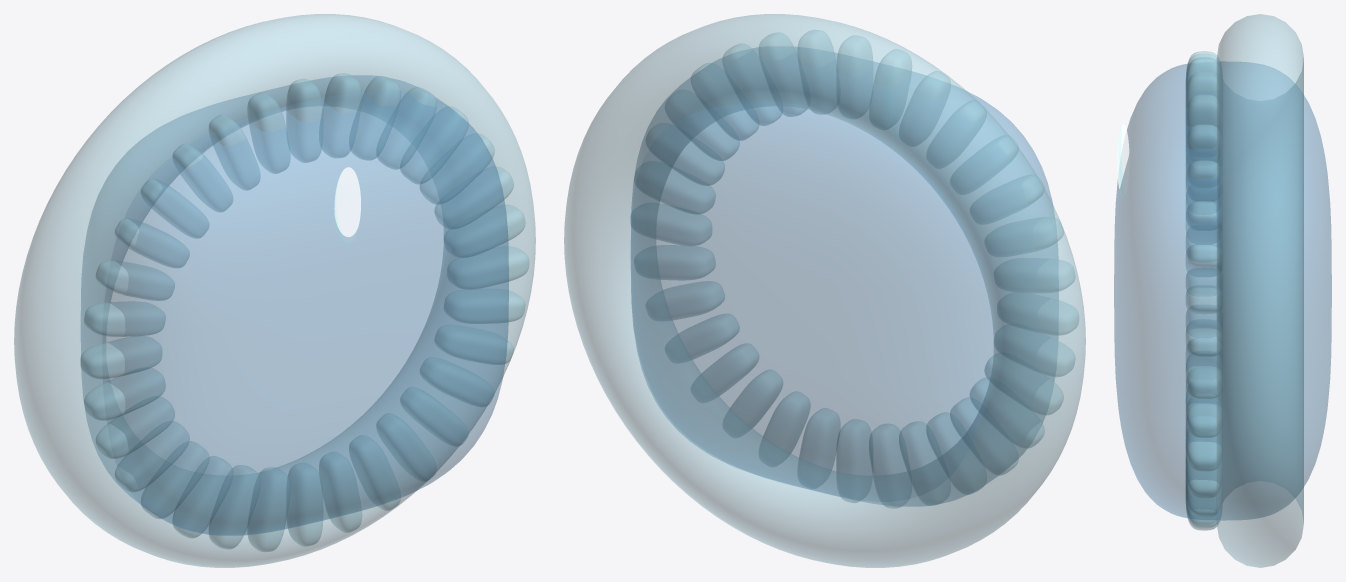
3 views of the same model, side by side, from view 1: azimuth 30°, elevation 25°; view 2: azimuth 150°, elevation 25°; view 3: azimuth 270°, elevation 25° (orthographic). The views are drawn at different scales.
Parts seen in each view (by area): view 1: dial-cap, dial-collar, grip-rib-22, grip-rib-1, grip-rib-2, grip-rib-23, grip-rib-21, grip-rib-3, grip-rib-0, grip-rib-20, grip-rib-4, grip-rib-5 (+23 smaller); view 2: dial-cap, dial-collar, grip-rib-9, grip-rib-15, grip-rib-16, grip-rib-8, grip-rib-14, grip-rib-10, grip-rib-13, grip-rib-11, grip-rib-7, grip-rib-12 (+19 smaller); view 3: dial-cap, dial-collar, grip-rib-8, grip-rib-9, grip-rib-3, grip-rib-4, grip-rib-7, grip-rib-2, grip-rib-0, grip-rib-10, grip-rib-1, grip-rib-31 (+9 smaller).
Boxes of the visible parts, x1,y1,x2,y2 form: dial-cap: (81, 75, 508, 535); dial-collar: (14, 14, 535, 567); grip-rib-22: (96, 396, 174, 458); grip-rib-1: (322, 73, 361, 157); grip-rib-2: (351, 76, 400, 160); grip-rib-23: (84, 368, 165, 420); grip-rib-21: (115, 421, 189, 491); grip-rib-3: (377, 87, 436, 169); grip-rib-0: (286, 79, 322, 162); grip-rib-20: (141, 441, 209, 518); grip-rib-4: (400, 106, 468, 184); grip-rib-5: (420, 133, 494, 204); dial-cap: (631, 47, 1058, 506); dial-collar: (564, 14, 1085, 567); grip-rib-9: (656, 245, 715, 280); grip-rib-15: (799, 408, 840, 469); grip-rib-16: (836, 419, 872, 502); grip-rib-8: (630, 203, 711, 245); grip-rib-14: (763, 391, 810, 453); grip-rib-10: (663, 281, 724, 319); grip-rib-13: (730, 369, 782, 427); grip-rib-11: (679, 314, 739, 359); grip-rib-7: (660, 168, 715, 214); grip-rib-12: (702, 343, 759, 395); dial-cap: (1114, 61, 1331, 520); dial-collar: (1216, 14, 1303, 567); grip-rib-8: (1186, 355, 1222, 399); grip-rib-9: (1186, 391, 1222, 437); grip-rib-3: (1186, 160, 1219, 206); grip-rib-4: (1186, 201, 1216, 243); grip-rib-7: (1186, 319, 1222, 356); grip-rib-2: (1186, 124, 1221, 171); grip-rib-0: (1186, 72, 1222, 112); grip-rib-10: (1186, 422, 1221, 471); grip-rib-1: (1186, 95, 1222, 140); grip-rib-31: (1186, 57, 1222, 91).
Size of the model in its own units: 1.78 by 1.78 by 0.7.
